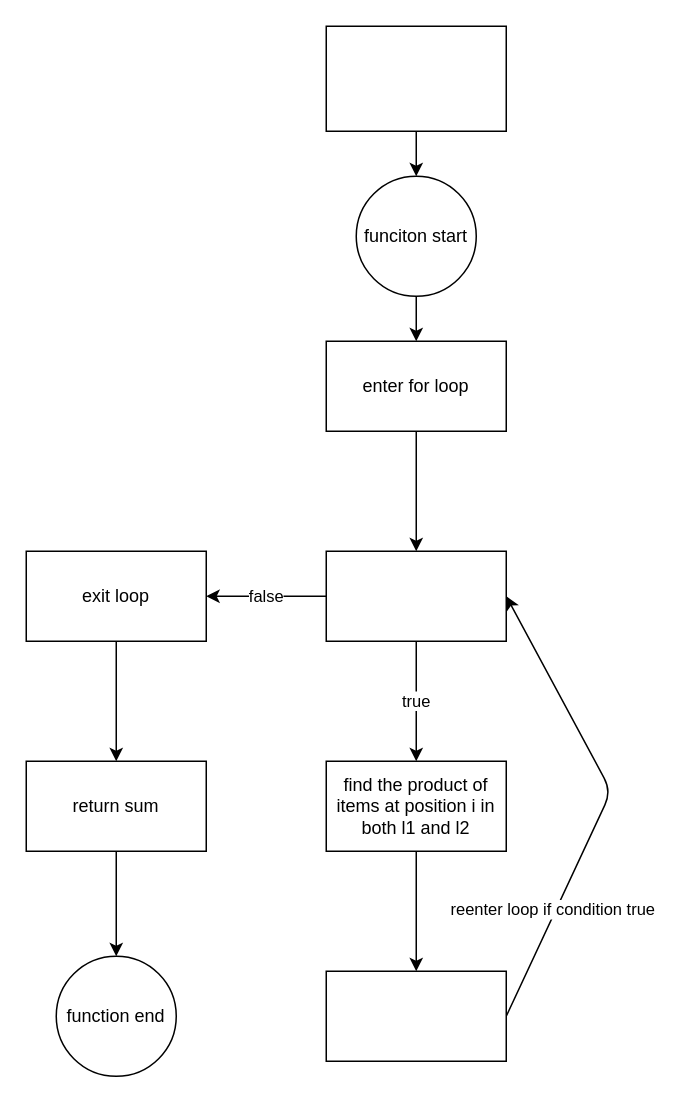
This 681x1103 diagram has some shape labels left out. The centre of each missing label's shape, as x and y in pixels:
"add new product to the sum" belongs at (415,1015).
"condition: i is in the range of the length of one of the lists" belongs at (415,595).
"sumoProduct() is called and two parameters (lists) are passed in" belongs at (415,78).
